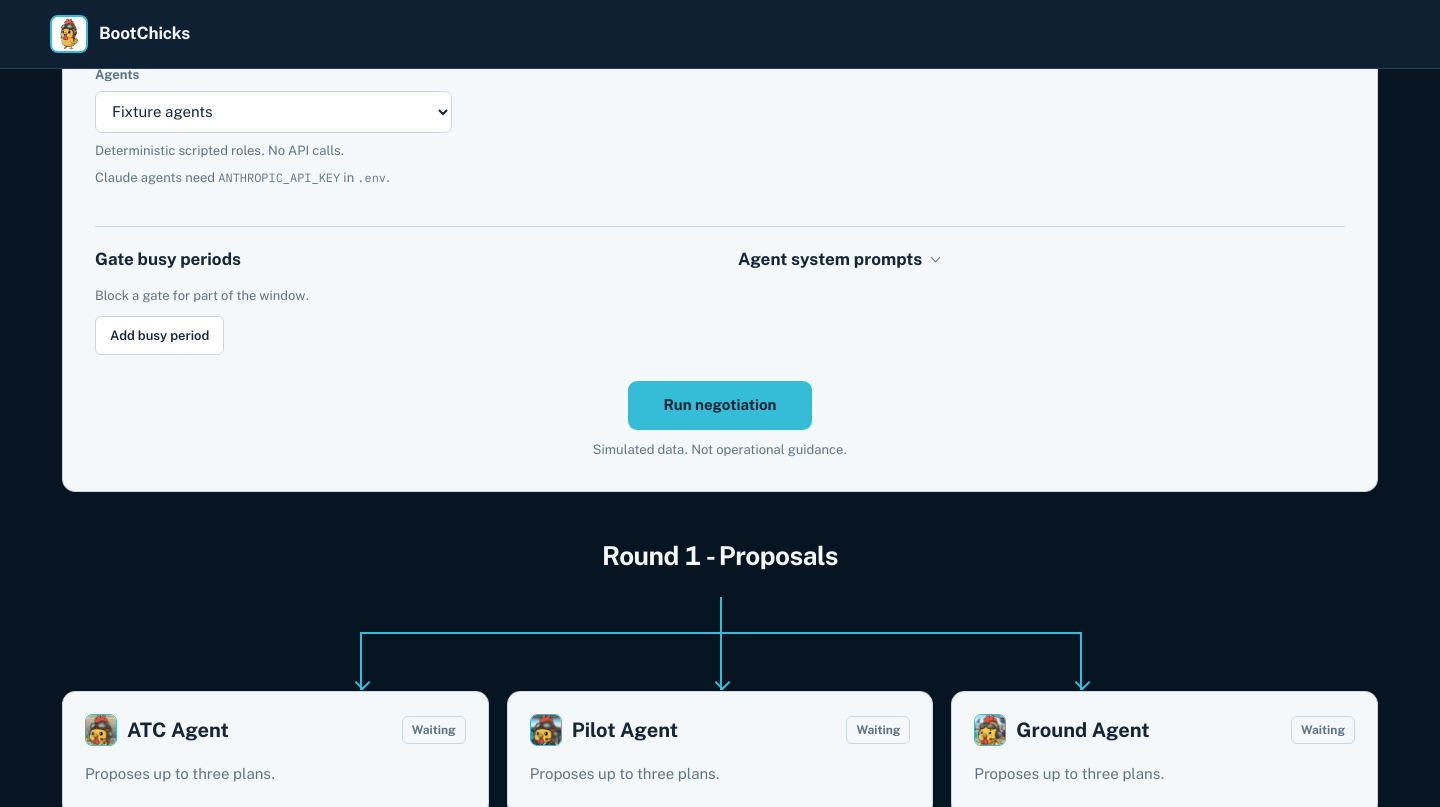
Test: BootChicks › shows a diversion chosen without agents
(page scrolled)
Click the button "Run negotiation" at x=720, y=405, box [628,381,812,430]
(page scrolled)
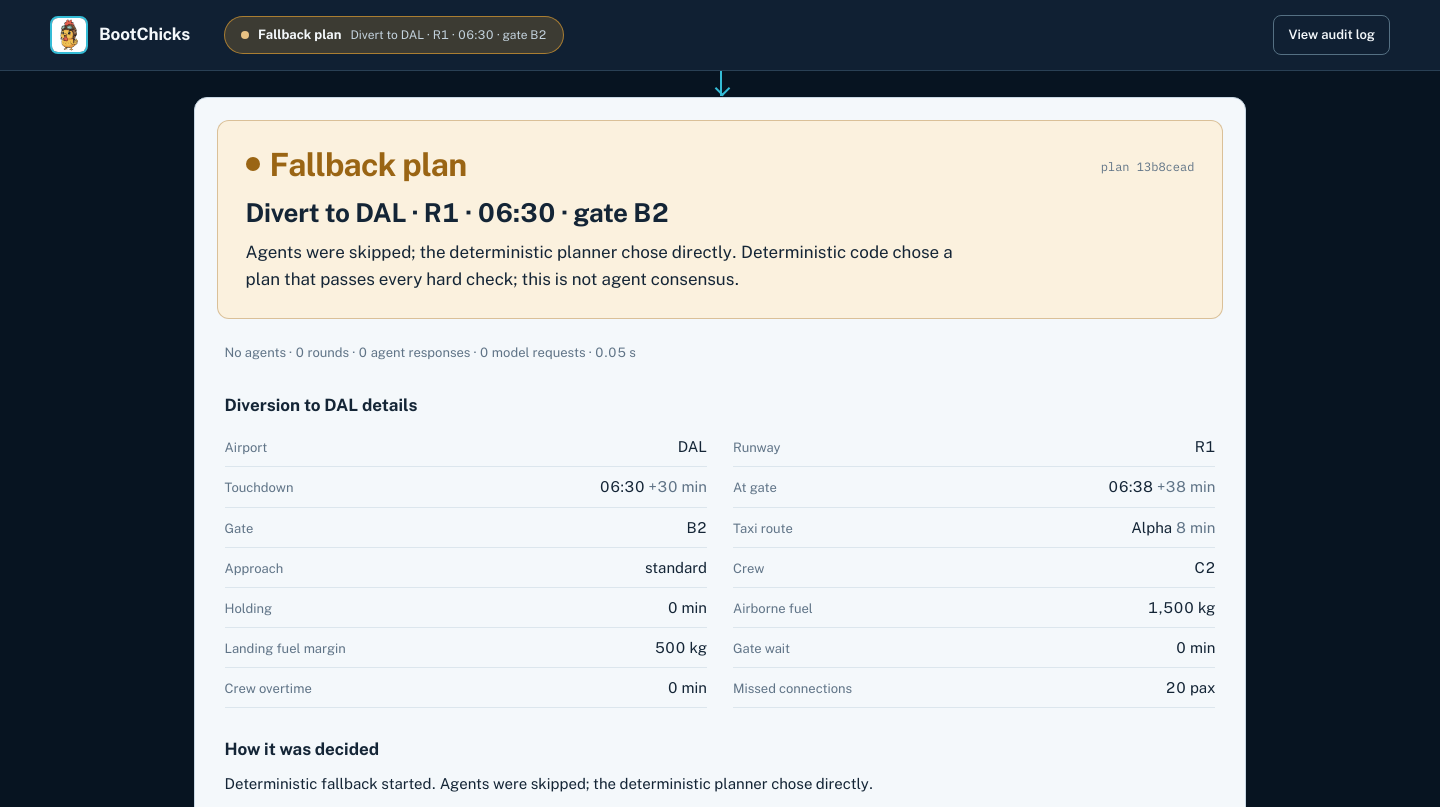
Result: the heading "Fallback plan" is shown at [246,146,467,182]
Result: the heading "Diversion to DAL details" is shown at [225,395,417,415]
